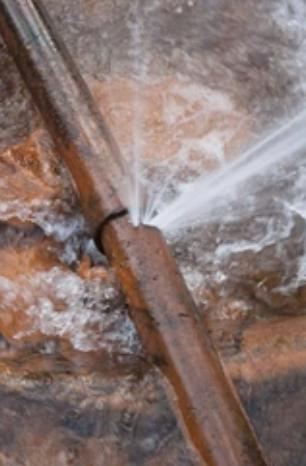pipe burst: (128, 0, 306, 232)
